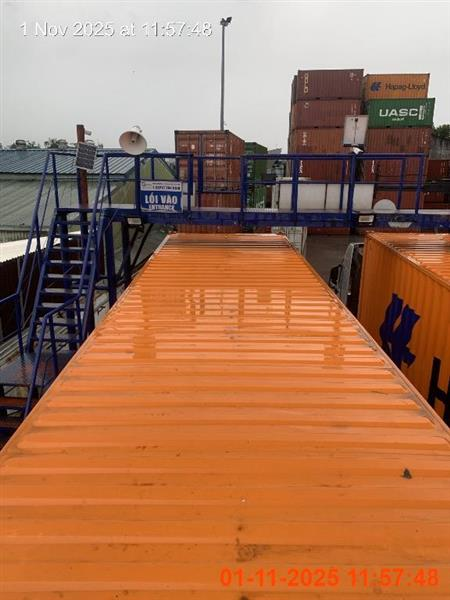crack: (0, 229, 449, 598)
